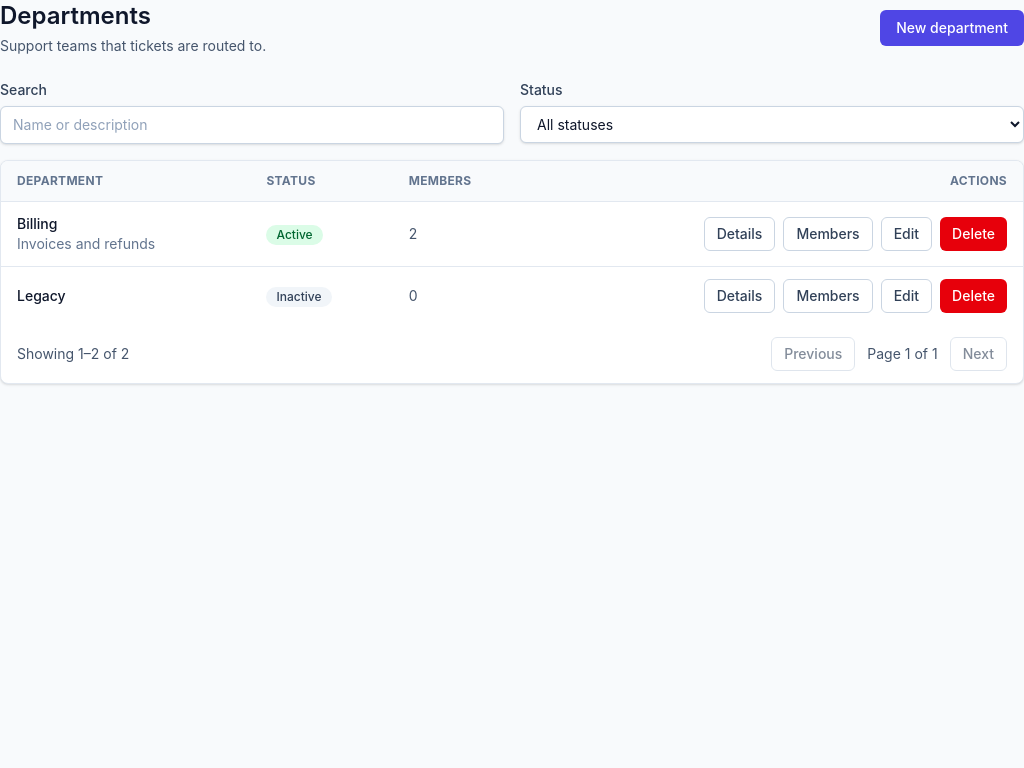
Test: DepartmentsPage › delete › closes the dialog and keeps the list when the backend refuses
This screenshot has width=1024, height=768.
Expected: the text "Billing" is shown, [17, 215, 57, 232]
Click the button named "Delete Billing" at {"x": 974, "y": 234}, box [940, 217, 1007, 251]
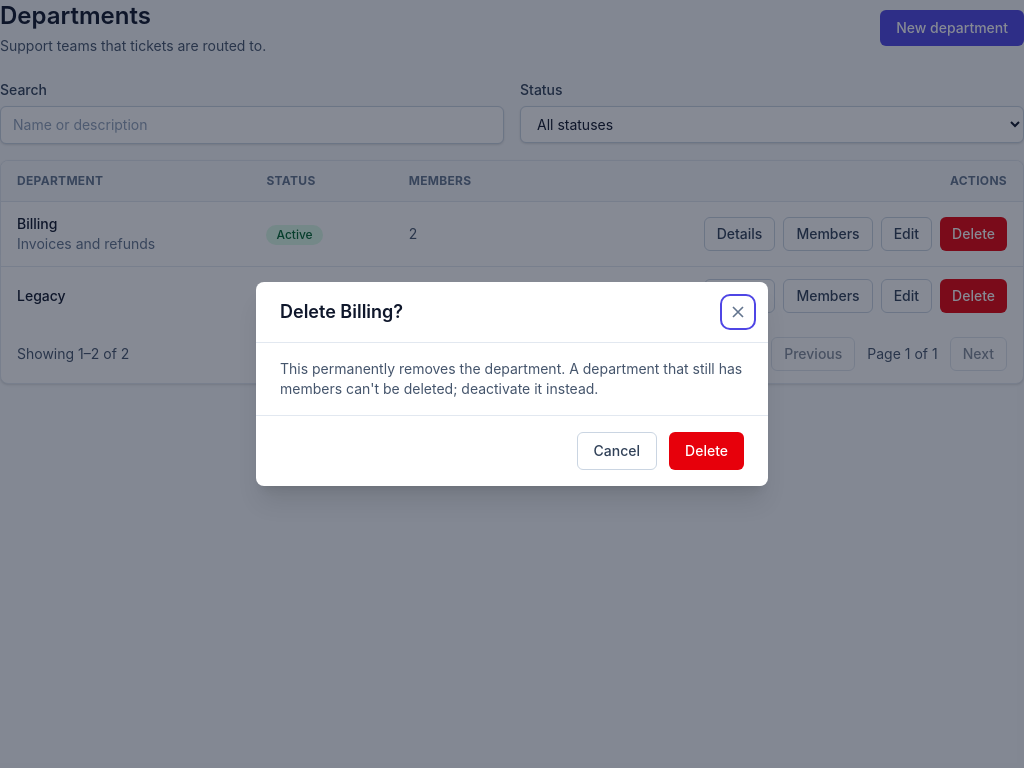
Click the button "Delete" at {"x": 707, "y": 451}, box [669, 432, 744, 470]
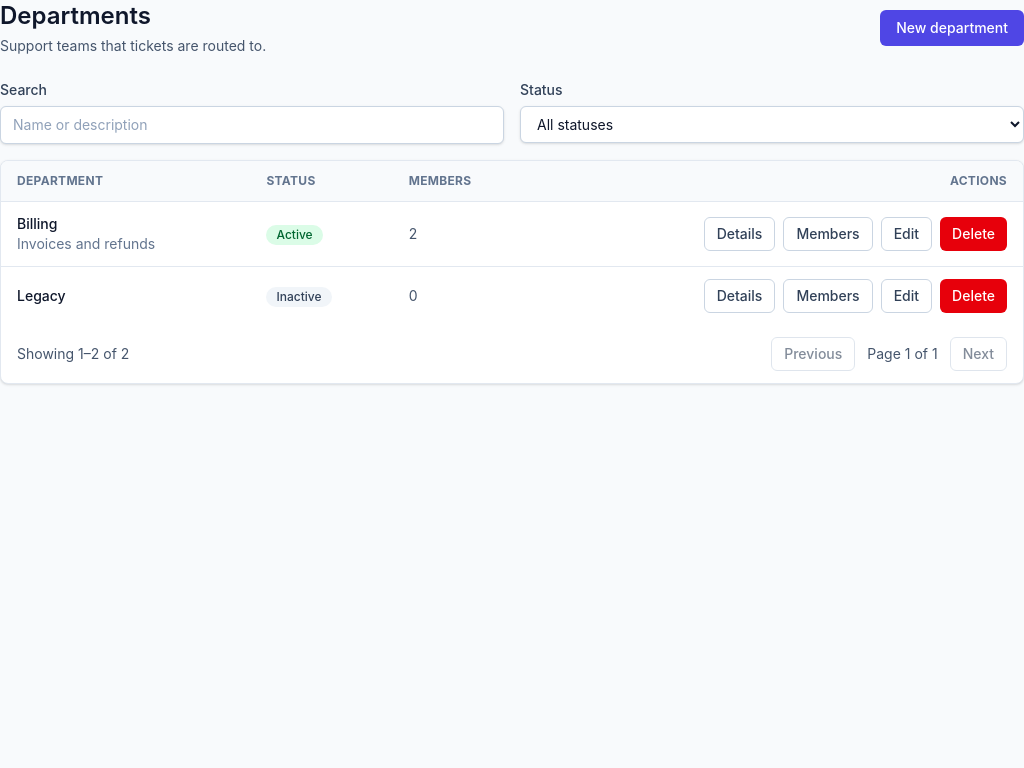
Expected: the text "Billing" is shown, [17, 215, 57, 232]
Expected: the dialog is gone
